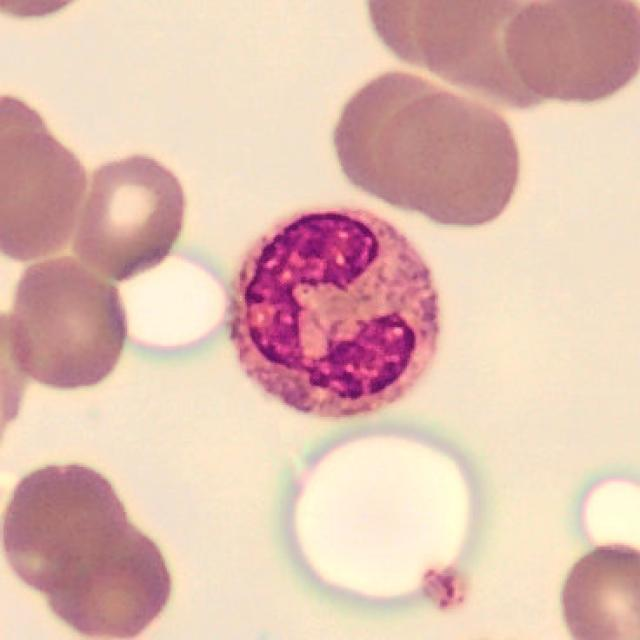Neutrofilo segmentado: (230, 204, 440, 415)
